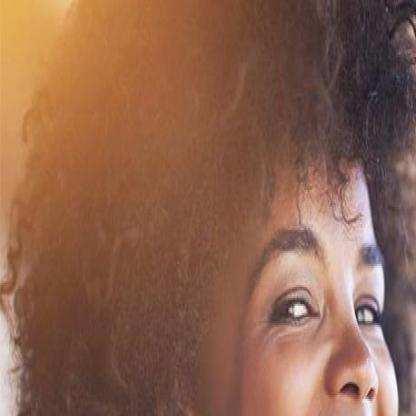wrinkle: (260, 310, 320, 353)
